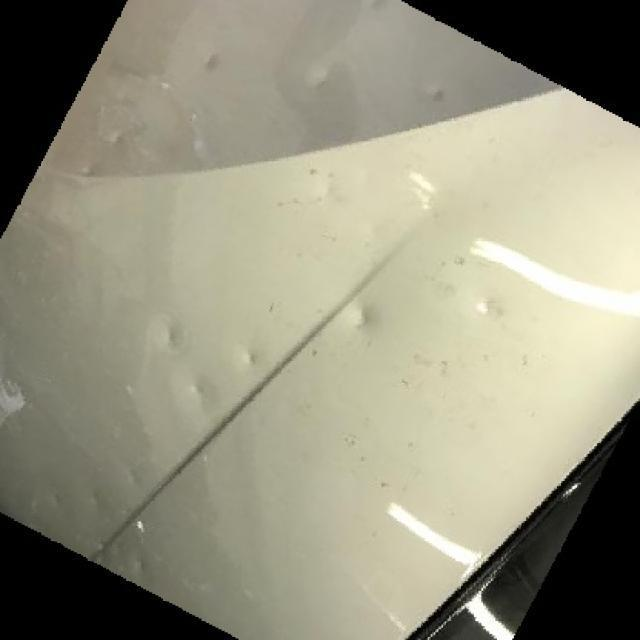dent: (345, 302, 374, 330), (305, 65, 334, 90), (190, 377, 216, 403), (476, 297, 502, 320), (124, 465, 145, 493), (163, 326, 183, 349), (243, 348, 263, 368), (428, 85, 448, 104), (132, 552, 148, 574), (204, 54, 219, 73), (86, 494, 102, 511)
